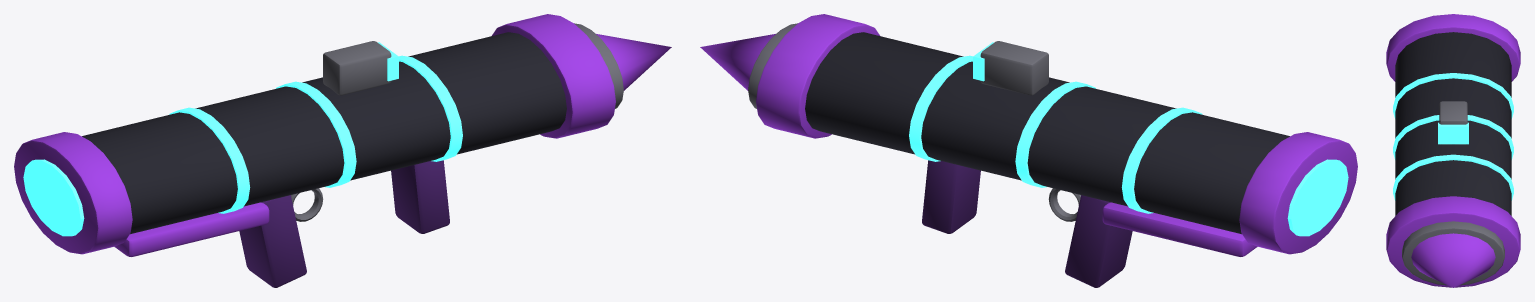
Rendered from SGP_Launcher_Neon.glb.
3 views of the same model, side by side, from view 1: azimuth 30°, elevation 25°; view 2: azimuth 150°, elevation 25°; view 3: azimuth 270°, elevation 25° (orthographic). The views are drawn at different scales.
Parts seen in each view (by area): view 1: SGP_Launcher_Neon; view 2: SGP_Launcher_Neon; view 3: SGP_Launcher_Neon.
Boxes of the visible parts, left/top/right/bottom form: SGP_Launcher_Neon: left=14, top=14, right=671, bottom=287; SGP_Launcher_Neon: left=700, top=14, right=1357, bottom=287; SGP_Launcher_Neon: left=1386, top=14, right=1520, bottom=287.
Size of the model in its own units: 0.699 by 0.2197 by 0.1664.
